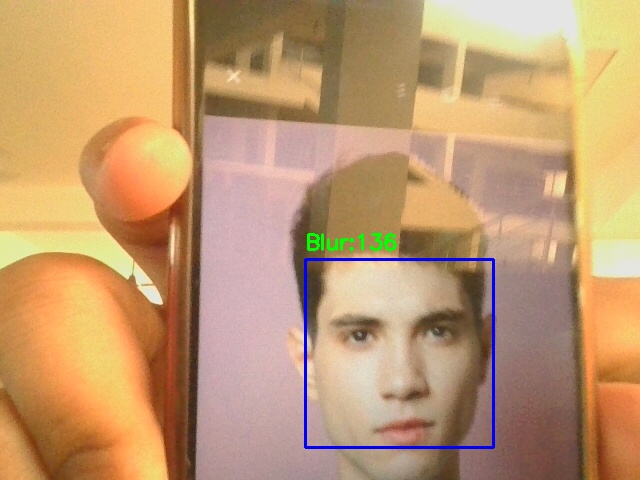fake: (305, 259, 493, 447)
